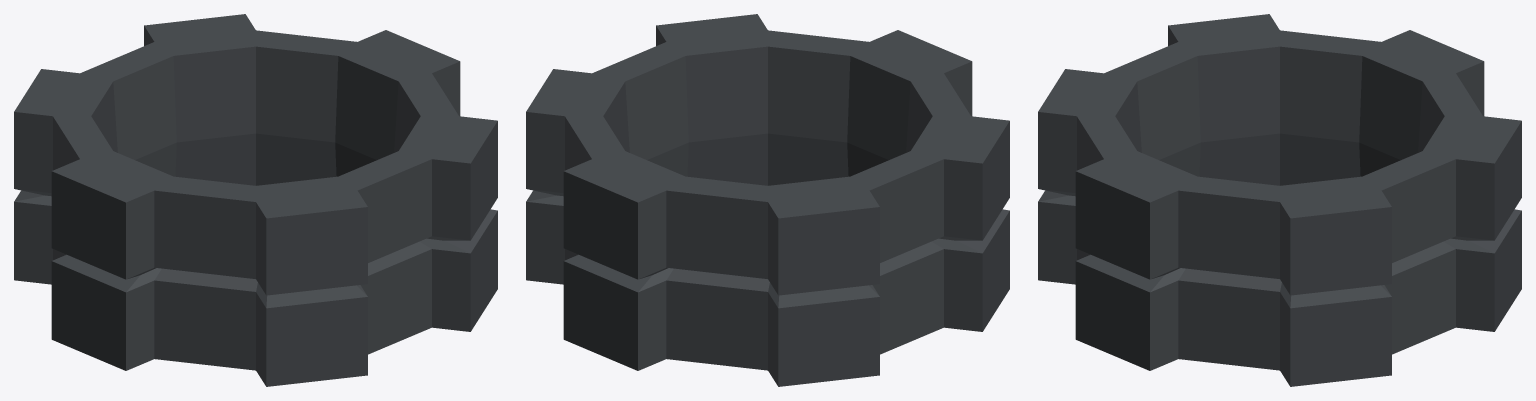
Rendered from SM_gear_02.fbx.
The picture shows the model from 3 angles, left to right: view 1: azimuth 30°, elevation 25°; view 2: azimuth 150°, elevation 25°; view 3: azimuth 270°, elevation 25°; orthographic projection.
Visible parts, largest first — view 1: gear_02; view 2: gear_02; view 3: gear_02.
Boxes of the visible parts, box(x1,y1,x2,y2) form: gear_02: box(14, 14, 497, 386); gear_02: box(526, 14, 1009, 386); gear_02: box(1038, 14, 1521, 386).
Bounding box in the file's own units: 84.49 × 32.46 × 84.49.
